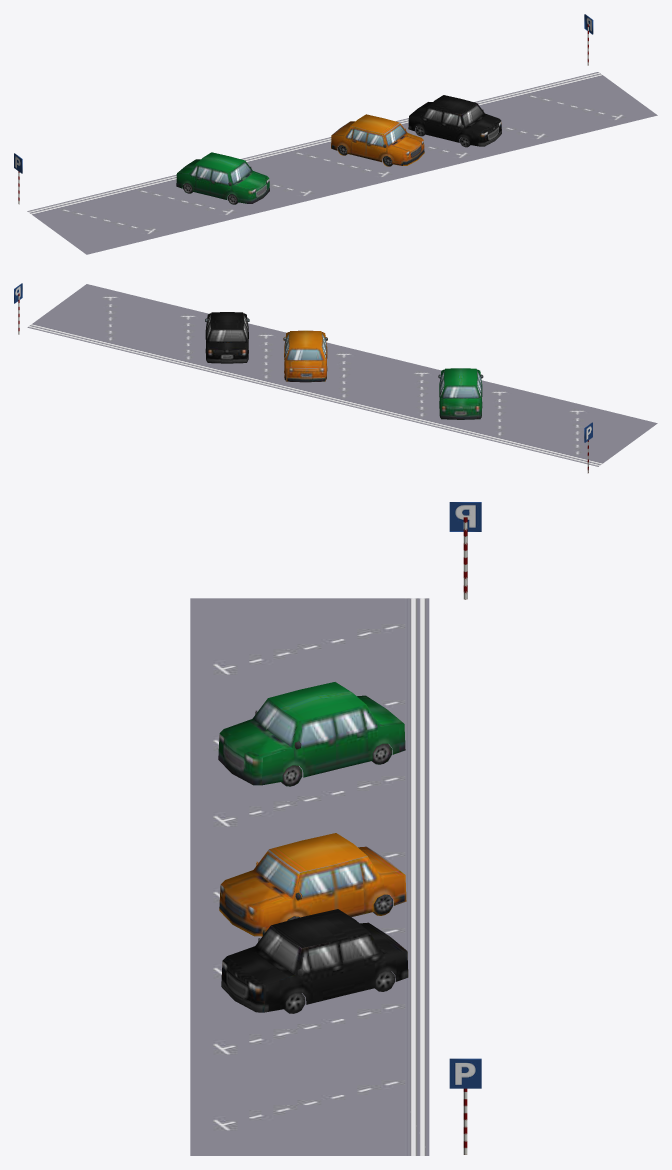
3 renders of one model, top to bottom at view 1: azimuth 30°, elevation 25°; view 2: azimuth 150°, elevation 25°; view 3: azimuth 270°, elevation 25°, orthographic. The views are drawn at different scales.
Parts seen in each view (by area): view 1: 6086350f10b9793609a8a8c1; view 2: 6086350f10b9793609a8a8c1; view 3: 6086350f10b9793609a8a8c1.
Boxes of the visible parts, box(x1,y1,x2,y2) form: 6086350f10b9793609a8a8c1: box(14, 14, 657, 254); 6086350f10b9793609a8a8c1: box(14, 283, 657, 473); 6086350f10b9793609a8a8c1: box(190, 502, 481, 1155).
Bounding box in the file's own units: 29.24 × 2.37 × 6.45.
Materials: 1 (1 with a texture image).
